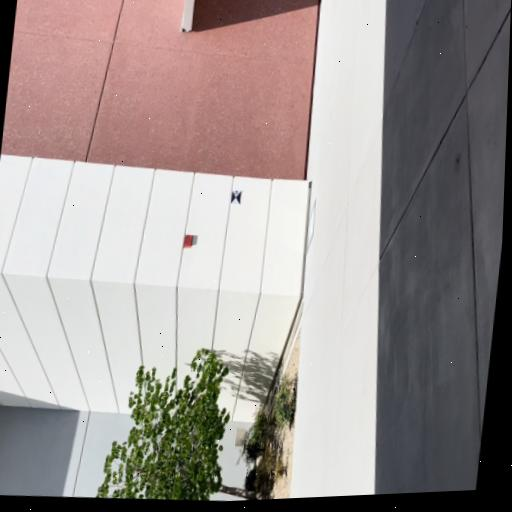target9: (232, 189, 242, 205)
